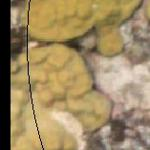alive: (11, 1, 148, 149)
